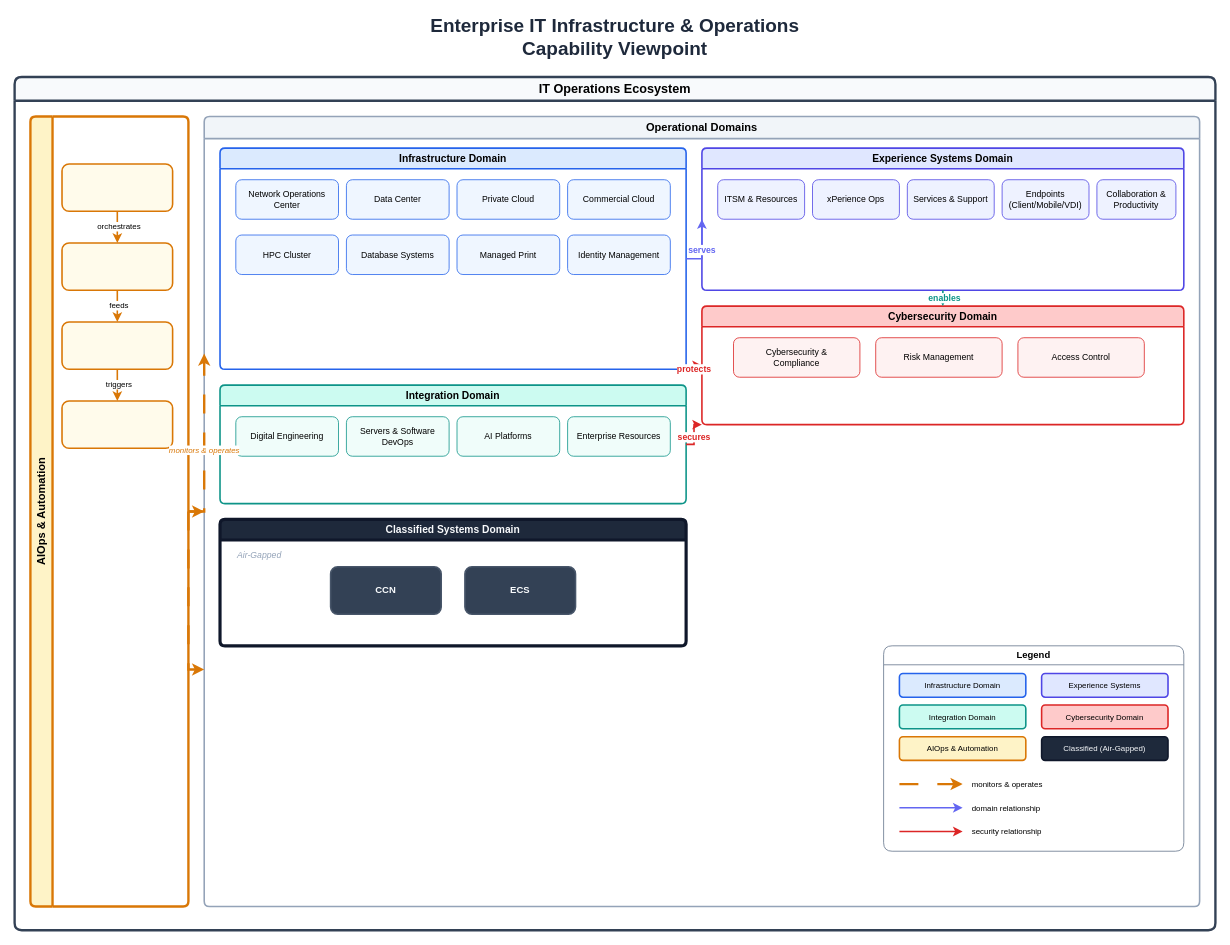
This 1230x945 diagram has some shape labels left out. The shapes that lost their labels are listed below. From the top down, each one's centre as x and y in pixels, then its label:
At [117,187]: "Intelligent Operations".
At [117,266]: "Automation Engine".
At [117,345]: "Observability".
At [117,424]: "Auto-Remediation".
